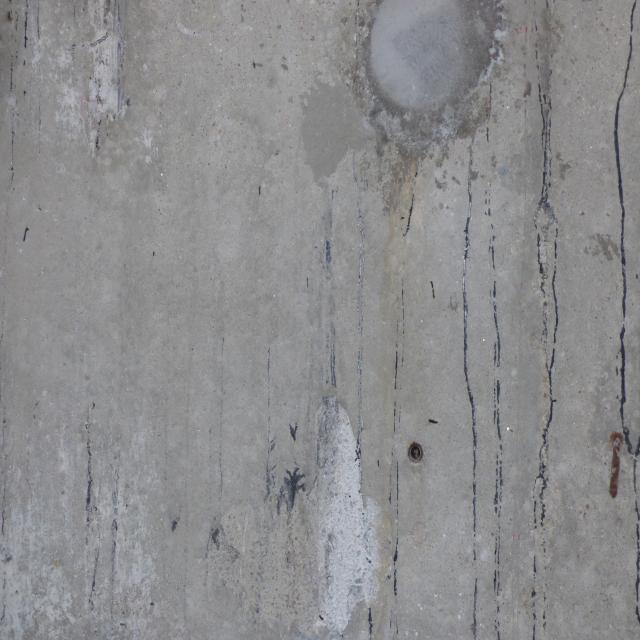corrosion: (593, 424, 626, 512), (404, 442, 425, 467)
